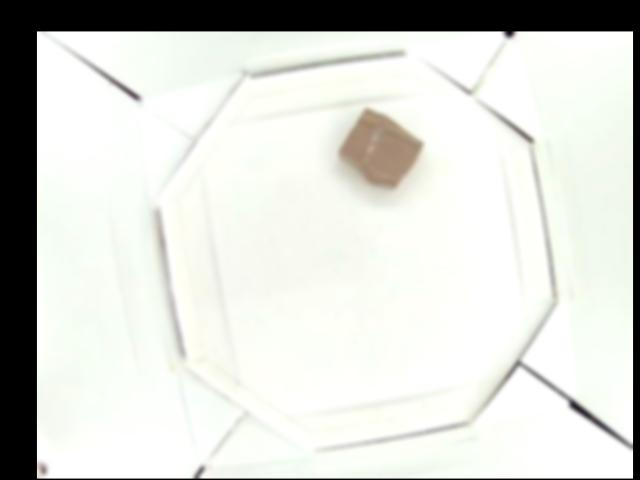China: (336, 108, 422, 186)
